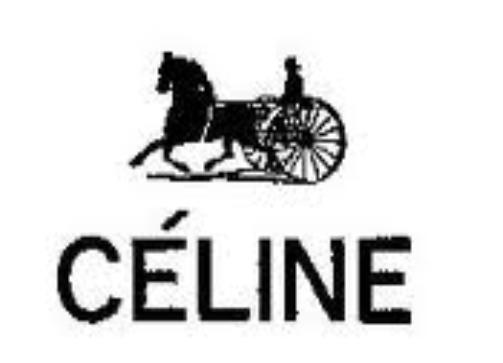CELINE: (54, 207, 422, 333)
